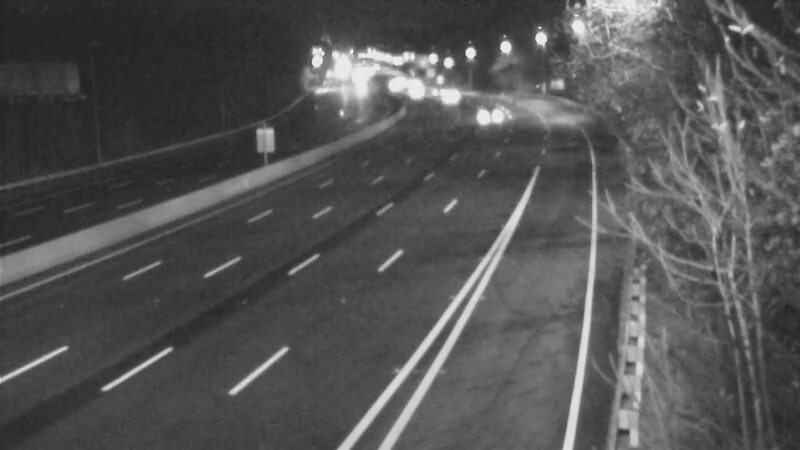vehicle: (391, 68, 441, 118), (412, 69, 462, 119), (426, 72, 476, 122), (463, 88, 513, 138)
